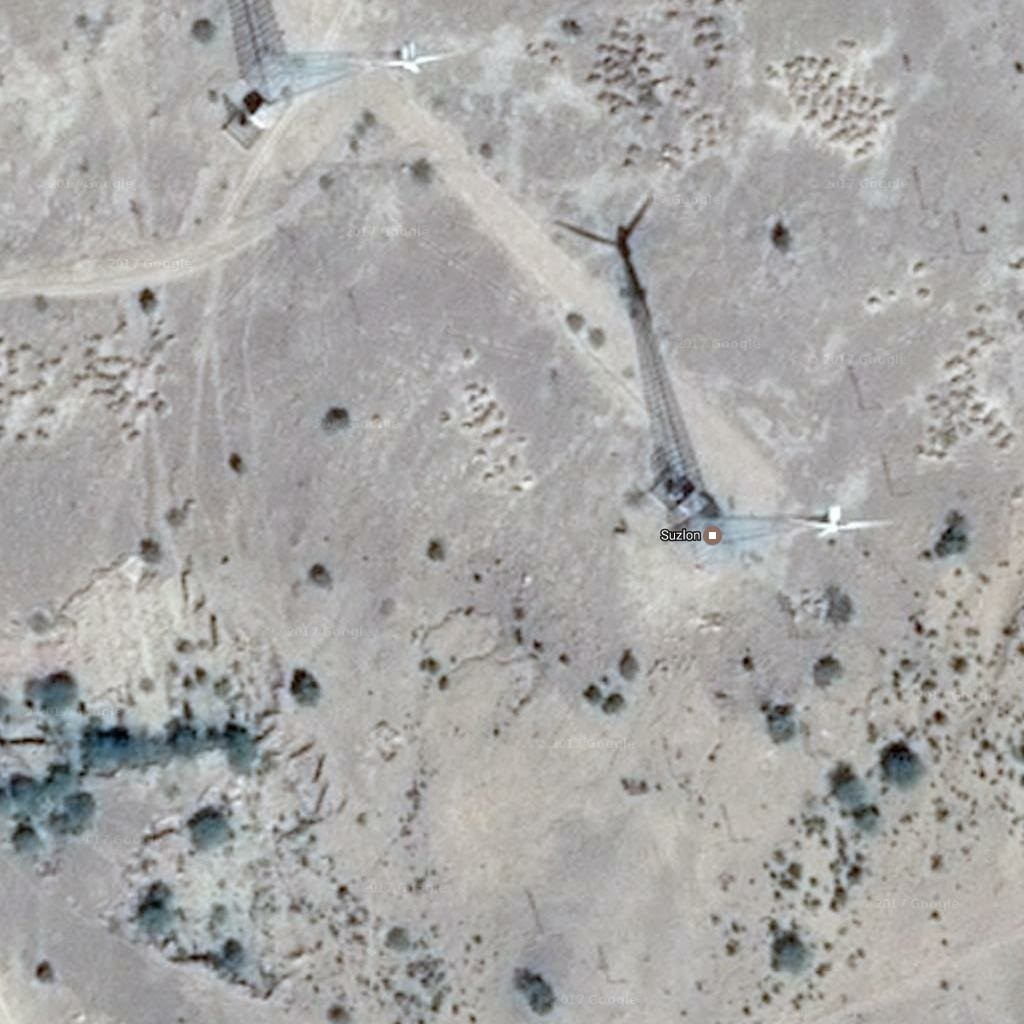Windmill: (548, 207, 716, 498)
